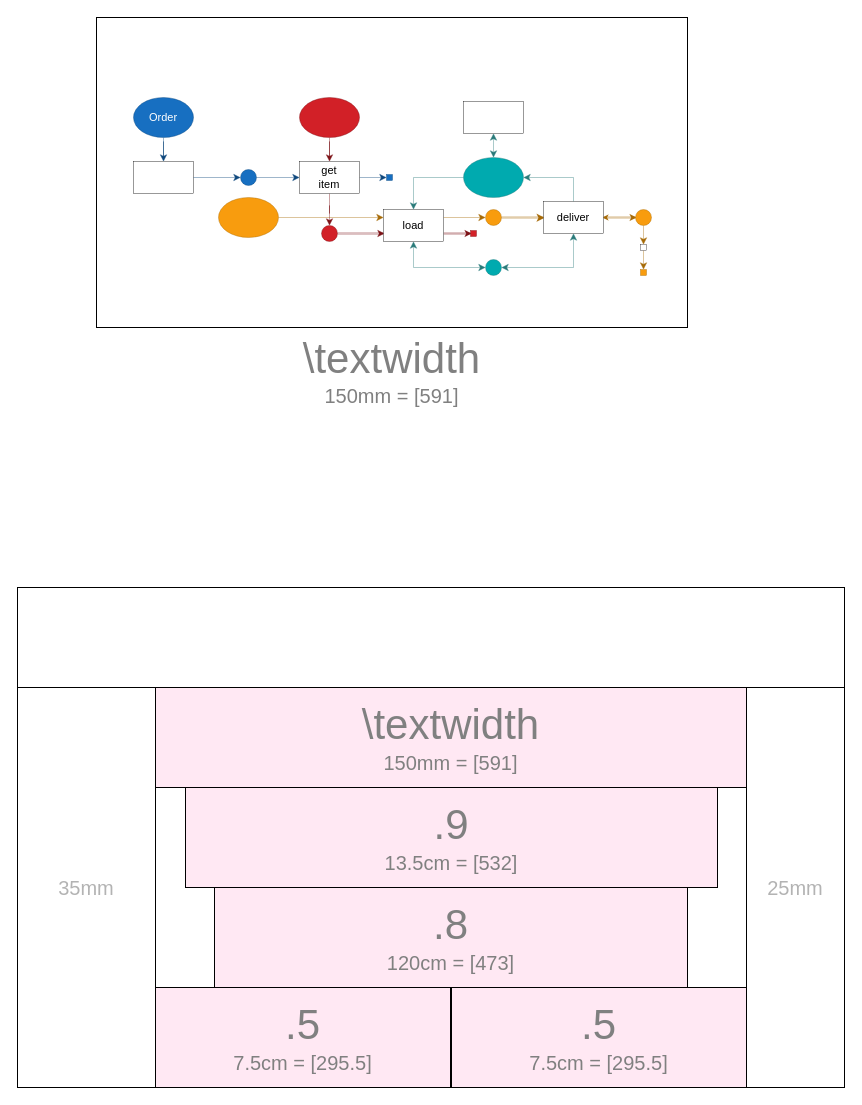
Some shapes in this 862 by 1105 pixel diagram are drawn without their labels. Each missing label, with the centre of its shape:
A4 paper 210mm = [827] (1 cm = [39.4]): (x=430, y=637)
inspect: (x=493, y=117)
Item: (x=329, y=117)
Pallet: (x=248, y=217)
receive order: (x=163, y=177)
Vehicle: (x=493, y=177)
